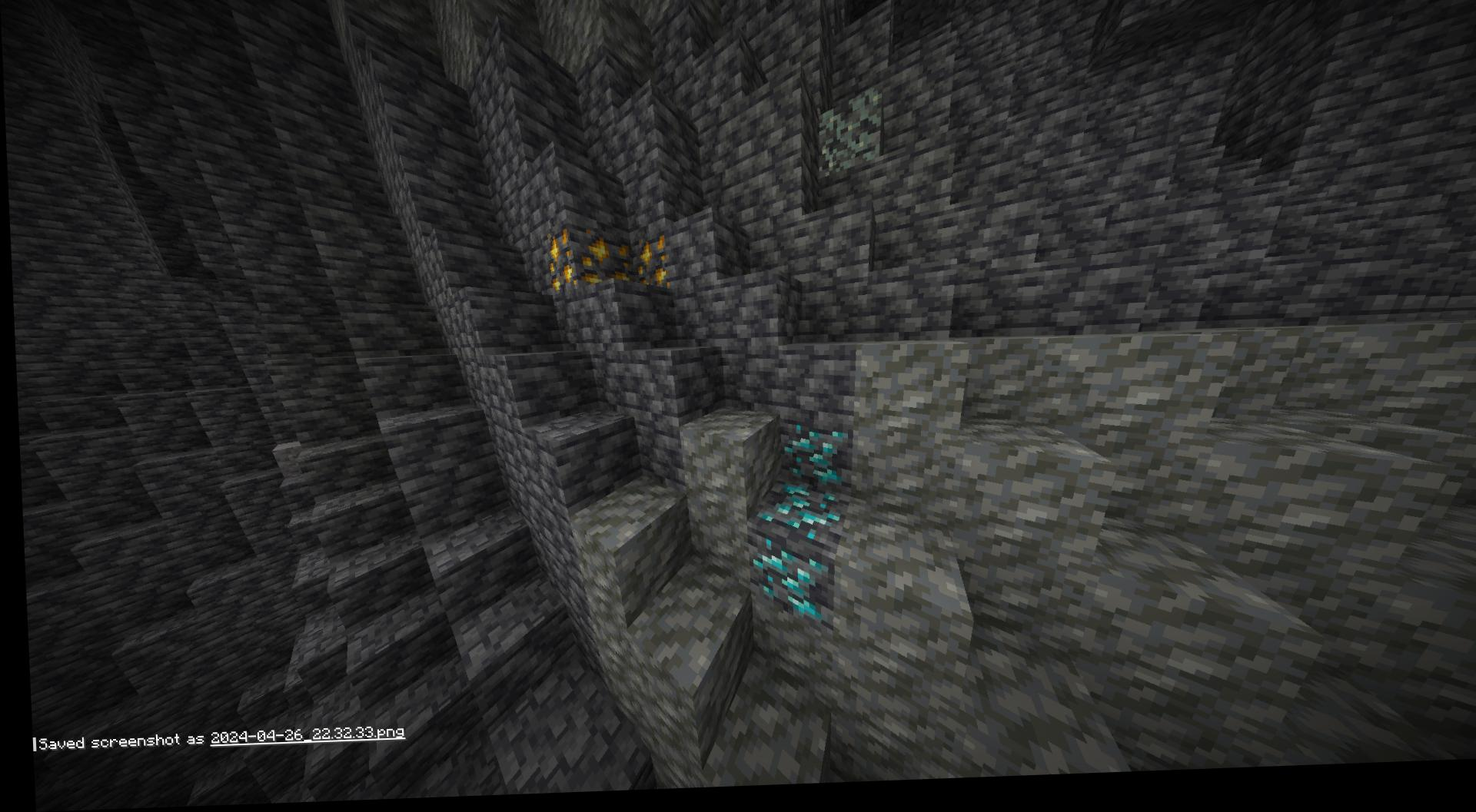diamond ore: (749, 487, 849, 551), (746, 546, 823, 621), (779, 426, 850, 494)
gold ore: (576, 229, 632, 294), (546, 229, 577, 299), (632, 237, 668, 292)
